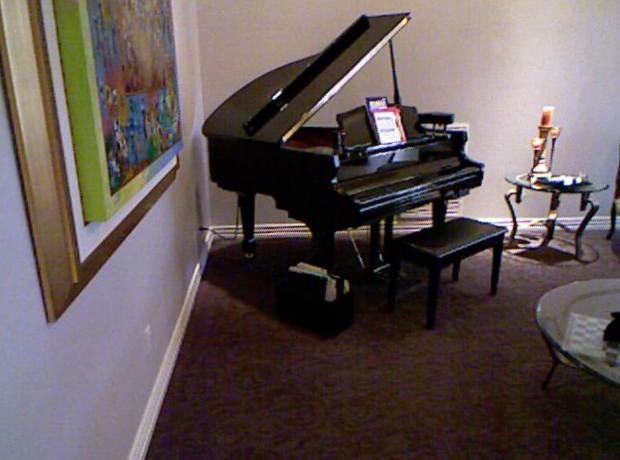chair: (381, 216, 509, 319)
table: (531, 275, 620, 404), (505, 174, 610, 256)
